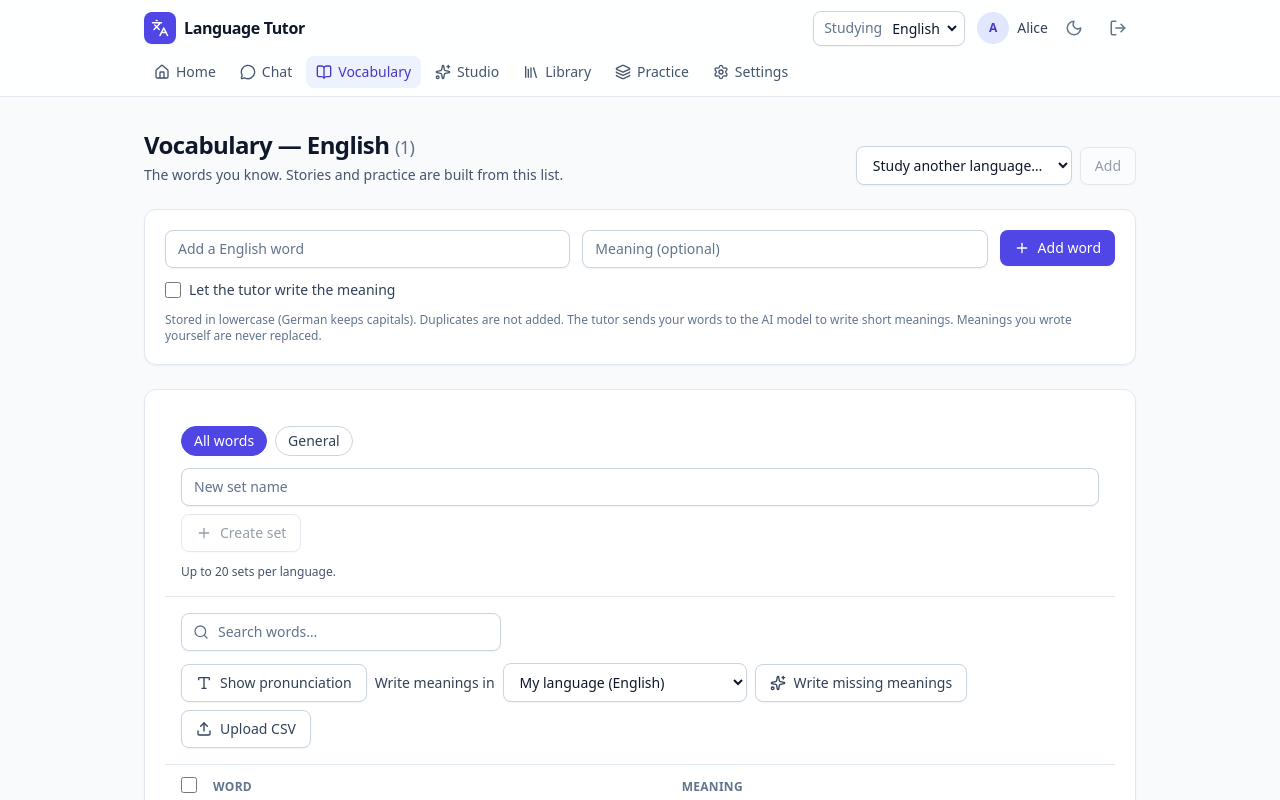
Test case: two tabs, one cookie › a request refused with session_changed drops A's data at once and adopts whoever is signed in
In the field labelled "word": point(368, 249) x1=165 y1=230 x2=570 y2=268, type "intruder"
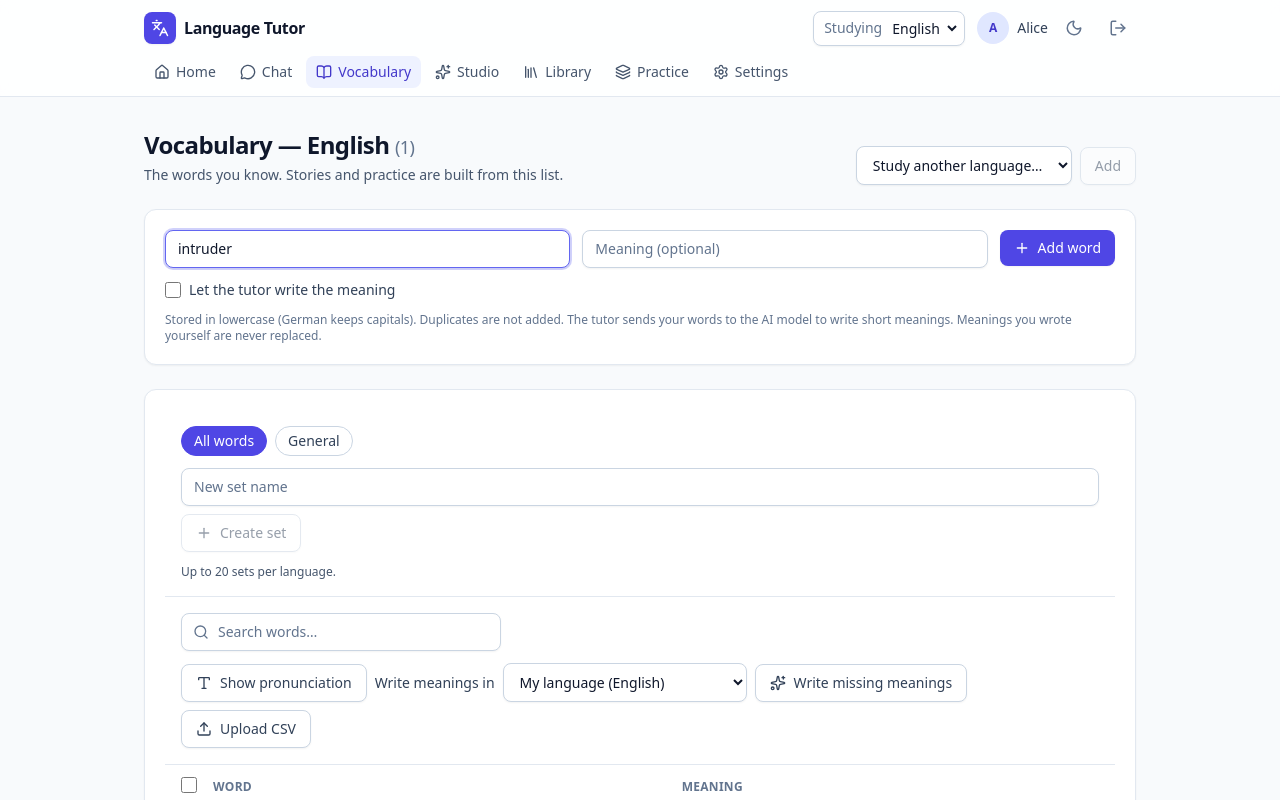
Click the button "Add word": point(1057, 248) x1=1000 y1=230 x2=1115 y2=266
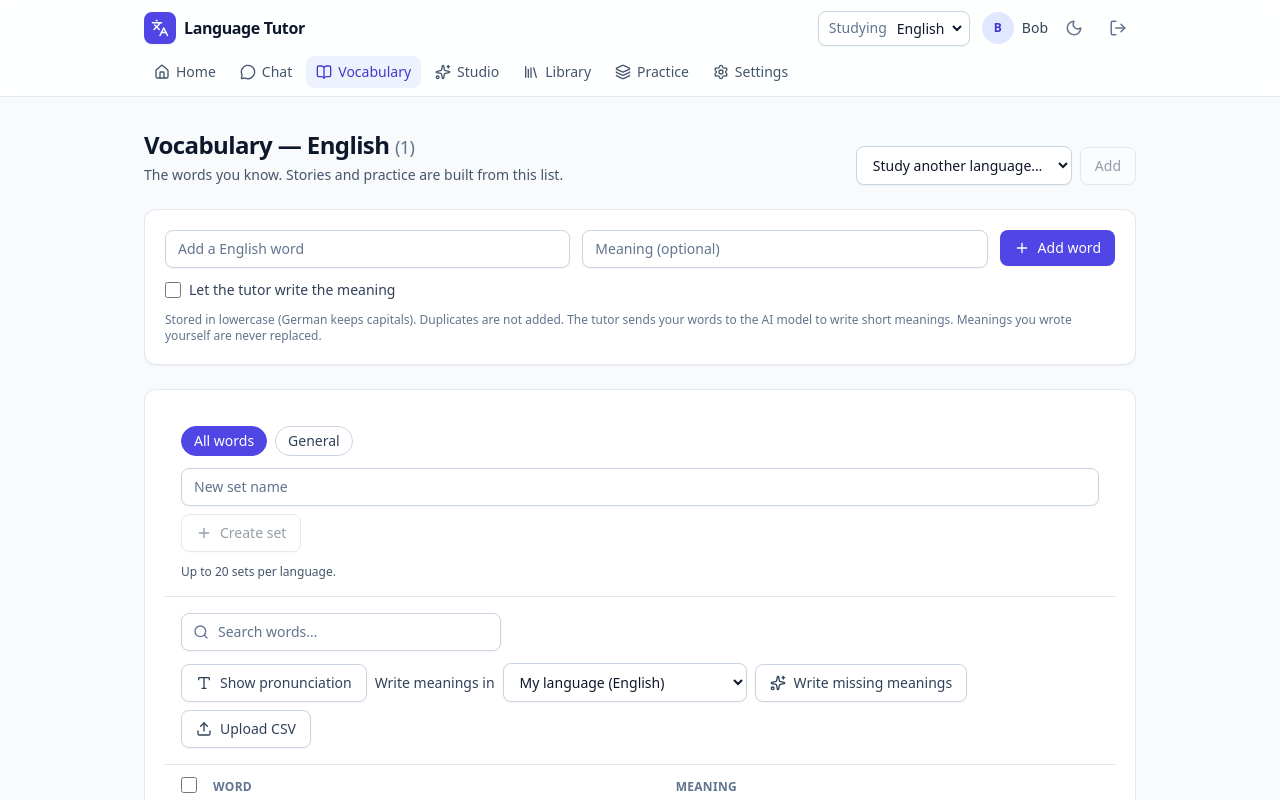
Check: the text "Bob" is shown, box x1=1022 y1=18 x2=1048 y2=38
